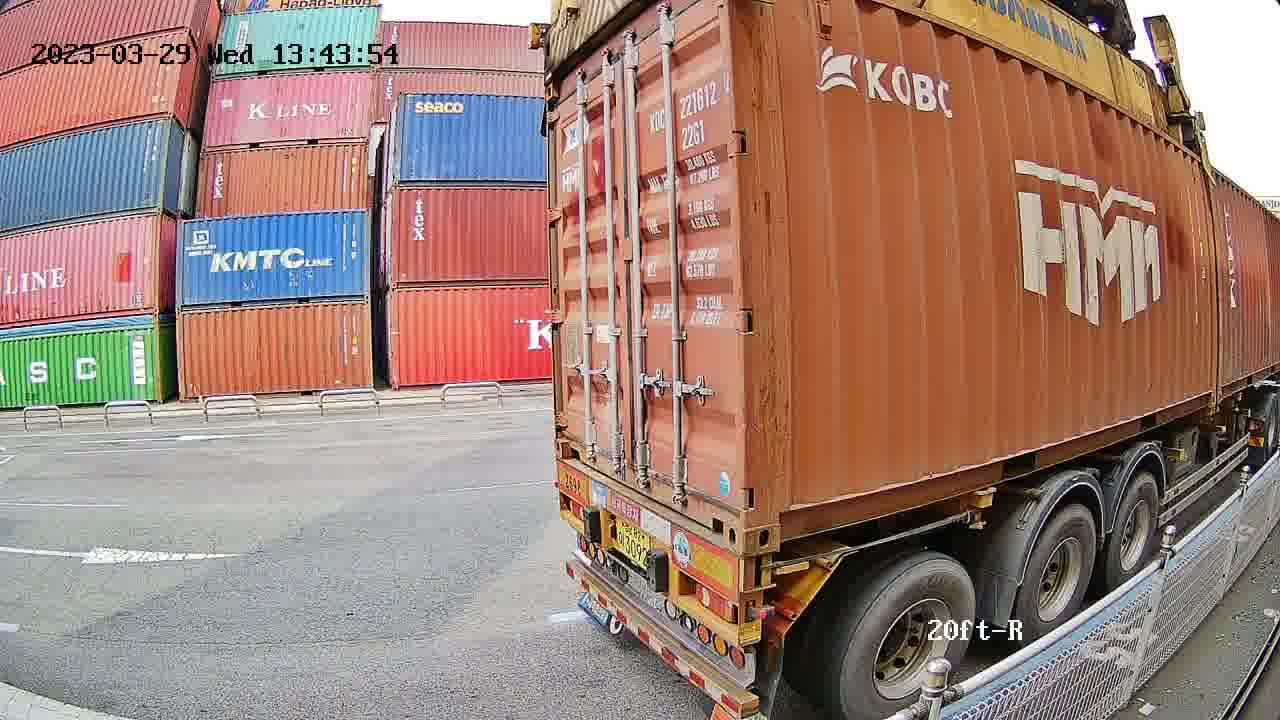Chassis: (554, 459, 775, 602)
Cone: (743, 551, 774, 589)
Hole_L: (742, 488, 805, 554), (553, 415, 587, 466)
Hole_R: (702, 484, 740, 555)
Tire: (838, 558, 975, 719), (1016, 506, 1096, 647), (1106, 476, 1160, 593)
